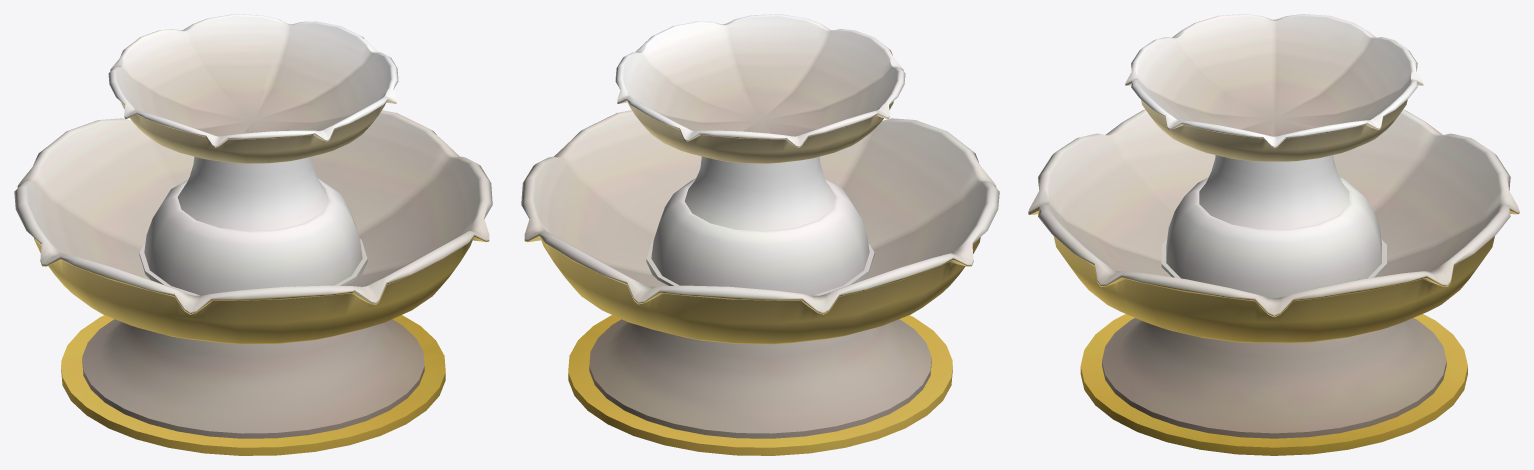
File: M_Fountain_01.fbx
3 renders of one model, left to right at view 1: azimuth 30°, elevation 25°; view 2: azimuth 150°, elevation 25°; view 3: azimuth 270°, elevation 25°, orthographic.
Visible parts, largest first — view 1: M_Fountain_01; view 2: M_Fountain_01; view 3: M_Fountain_01.
Part boxes in pixels (x1,y1,x2,y2): M_Fountain_01: (14,14,492,455); M_Fountain_01: (521,14,999,455); M_Fountain_01: (1028,14,1519,455).
Bounding box in the file's own units: 626 × 427 × 627.
1 material, 1 textured.
